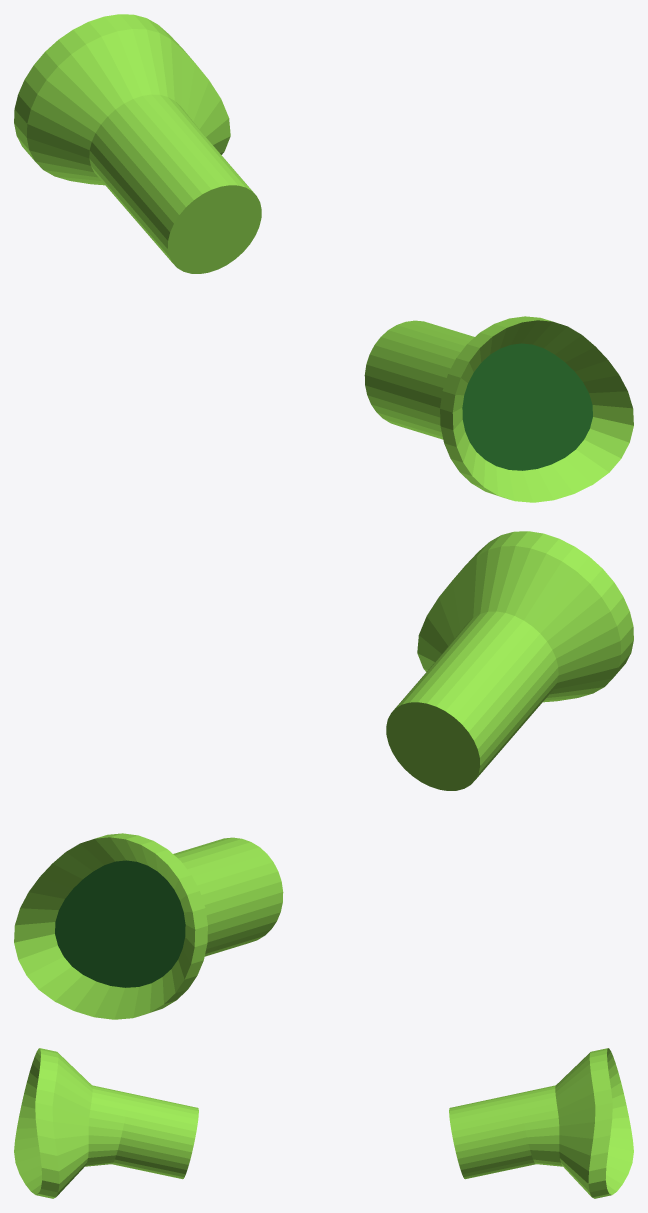
File: swamp.fbx
3 renders of one model, top to bottom at view 1: azimuth 30°, elevation 25°; view 2: azimuth 150°, elevation 25°; view 3: azimuth 270°, elevation 25°, orthographic. The views are drawn at different scales.
Parts seen in each view (by area): view 1: Cylinder.004; view 2: Cylinder.004; view 3: Cylinder.004.
Part boxes in pixels (x1=…): Cylinder.004: x1=14, y1=14, x2=633, y2=502; Cylinder.004: x1=14, y1=531, x2=633, y2=1019; Cylinder.004: x1=14, y1=1048, x2=633, y2=1198.
Bounding box in the file's own units: 53.51 × 11.61 × 12.96.
